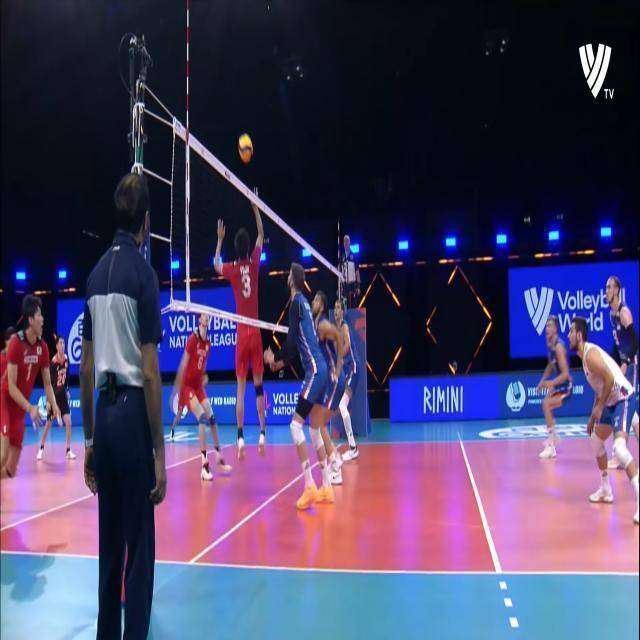volleyball: (237, 132, 253, 164)
